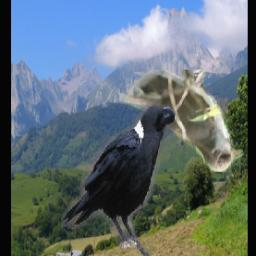Crow: (61, 106, 176, 256)
Cuckoo: (119, 71, 243, 173)
